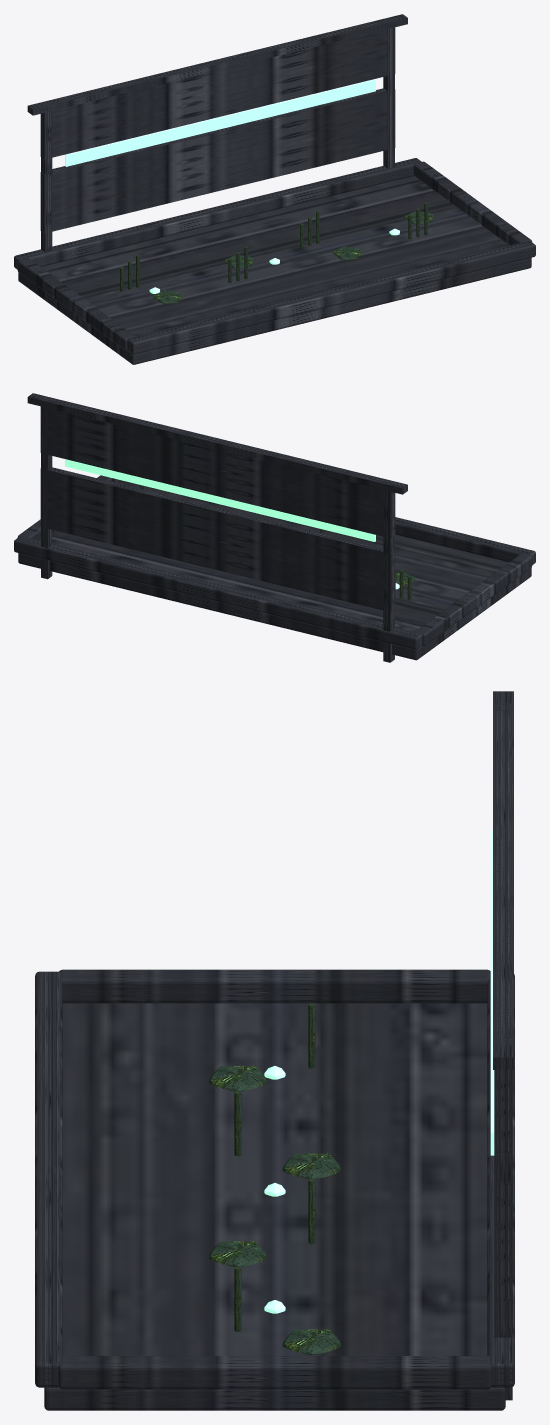
File: ecosys_pond.glb
The picture shows the model from 3 angles, top to bottom: view 1: azimuth 30°, elevation 25°; view 2: azimuth 150°, elevation 25°; view 3: azimuth 270°, elevation 25°; orthographic projection. The views are drawn at different scales.
Parts seen in each view (by area): view 1: sight_shell, floor, rim0, rim2, sightglow, rims0, rims2; view 2: sight_shell, floor, rim2, sightglow, rims0, rim0, rims2; view 3: floor, rims0, rims2, sight_shell, rim0, rim2, lily1, lily2, lily3, lily0, sightglow.
Boxes of the visible parts, box(x1,y1,x2,y2) form: sight_shell: box(27, 14, 407, 252); floor: box(18, 176, 531, 364); rim0: box(127, 240, 535, 354); rim2: box(14, 158, 421, 269); sightglow: box(65, 79, 375, 166); rims0: box(17, 258, 135, 350); rims2: box(413, 161, 532, 245); sight_shell: box(27, 393, 407, 662); floor: box(18, 481, 531, 660); rim2: box(14, 536, 422, 649); sightglow: box(65, 459, 375, 541); rims0: box(414, 553, 532, 645); rim0: box(395, 517, 535, 564); rims2: box(17, 475, 122, 540); floor: box(44, 1003, 505, 1410); rims0: box(59, 969, 490, 1003); rims2: box(58, 1356, 491, 1389); sight_shell: box(493, 691, 513, 1400); rim0: box(35, 971, 62, 1387); rim2: box(487, 972, 514, 1387); lily1: box(282, 1153, 340, 1179); lily2: box(209, 1241, 267, 1266); lily3: box(282, 1329, 340, 1355); lily0: box(209, 1066, 267, 1091); sightglow: box(490, 830, 494, 1155).
Size of the model in its own units: 4.08 by 1.7 by 2.08.
Materials: 7 (5 with a texture image).
